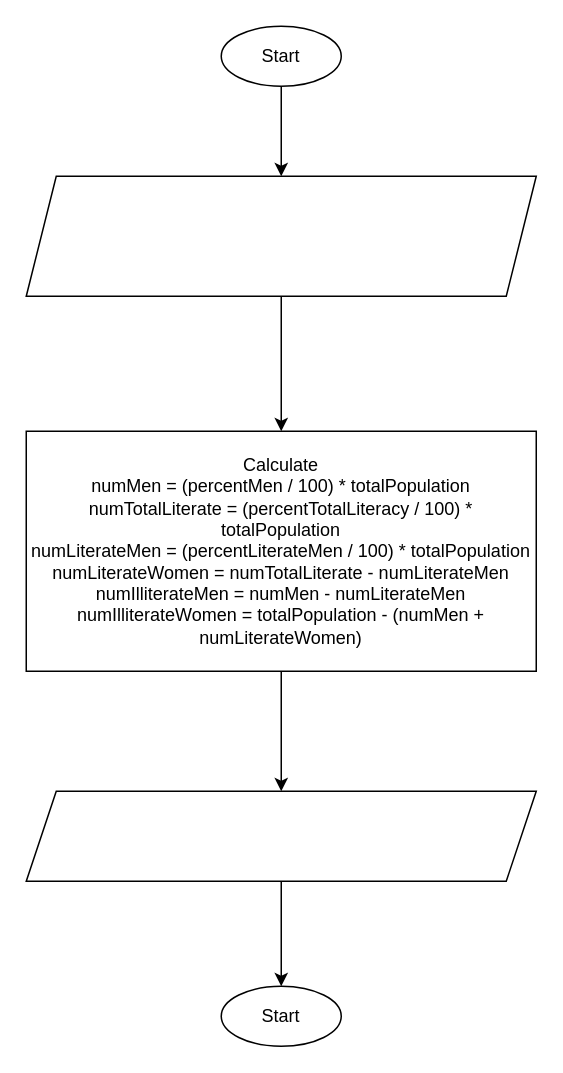
The diagram is 563 pixels wide and 1073 high, and some of its shapes have lost their labels. Each missing label, with the centre of its shape:
"Display All given and calculate Data" belongs at pixel 280 835.
"Input totalPopulation, percentMen, percentTotalLiteracy, percentLiterateMen" belongs at pixel 280 235.
